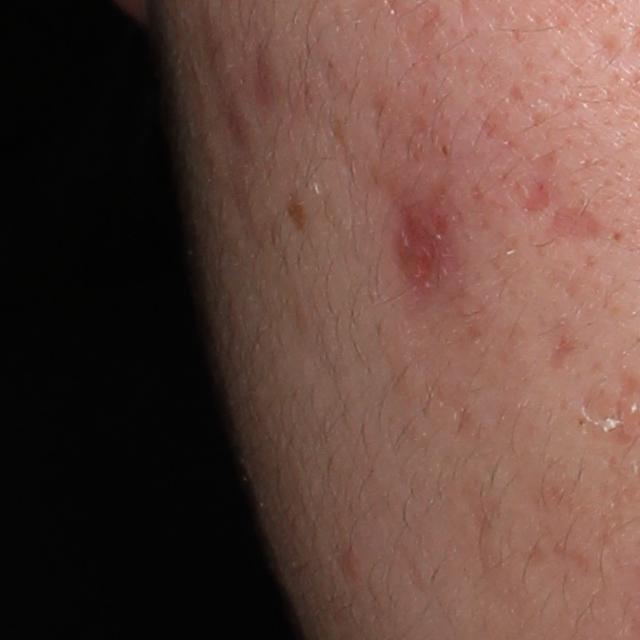atrophic_scar: (401, 189, 452, 304), (548, 205, 594, 242), (546, 332, 581, 374)
nevus: (289, 182, 310, 232)
